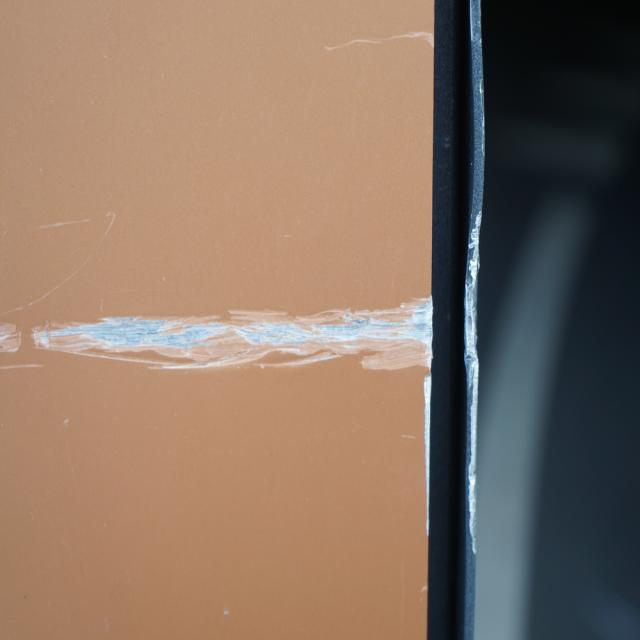scratch: (0, 295, 434, 537), (464, 204, 480, 561)
